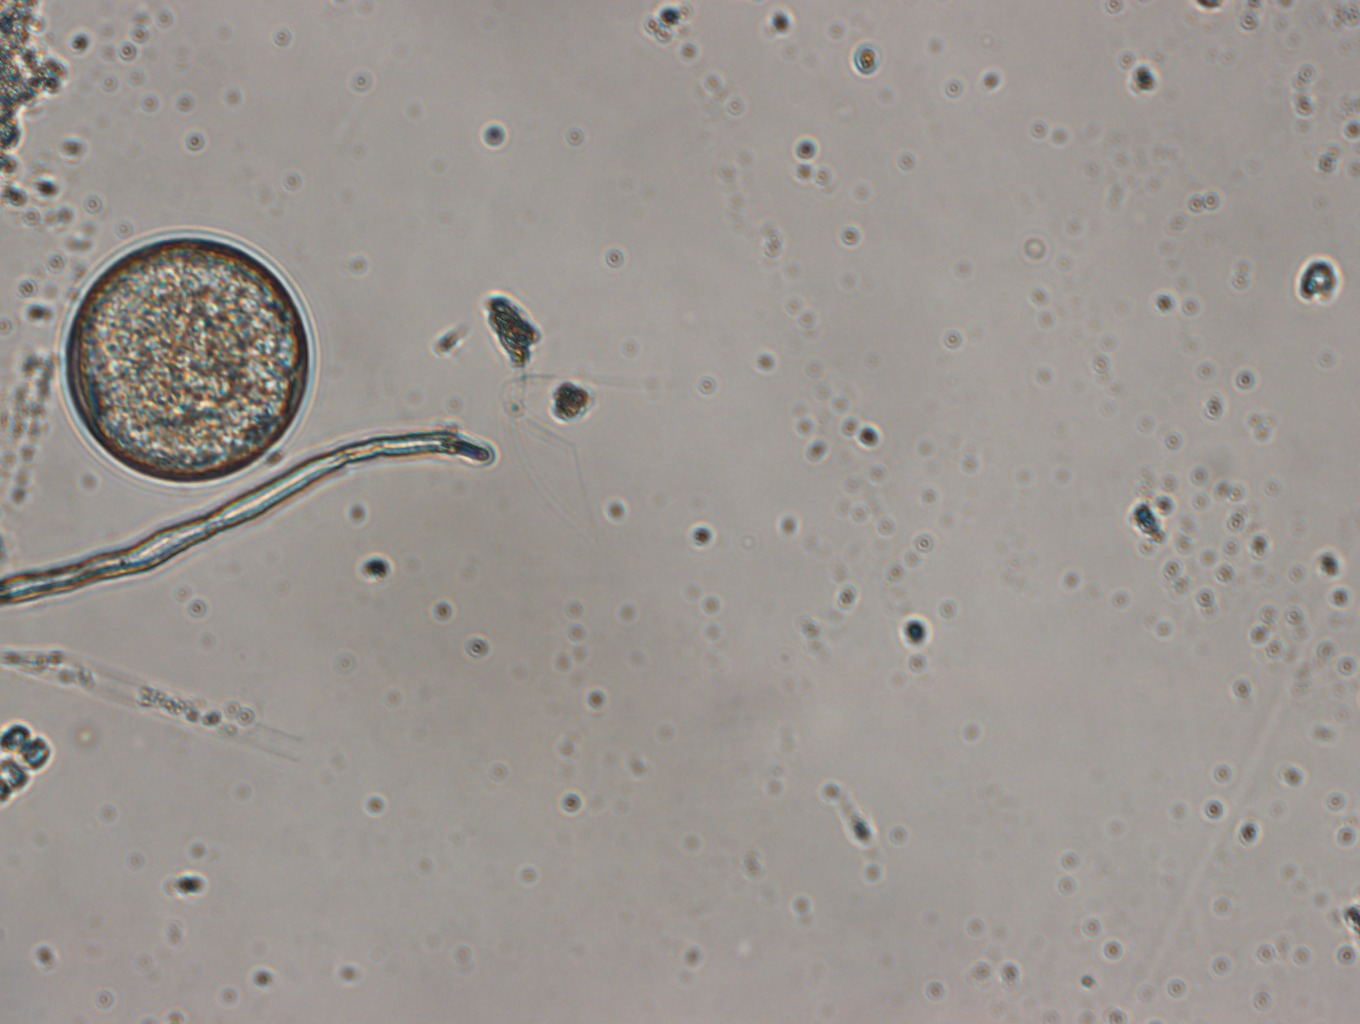coscinodiscus: (62, 230, 315, 492)
